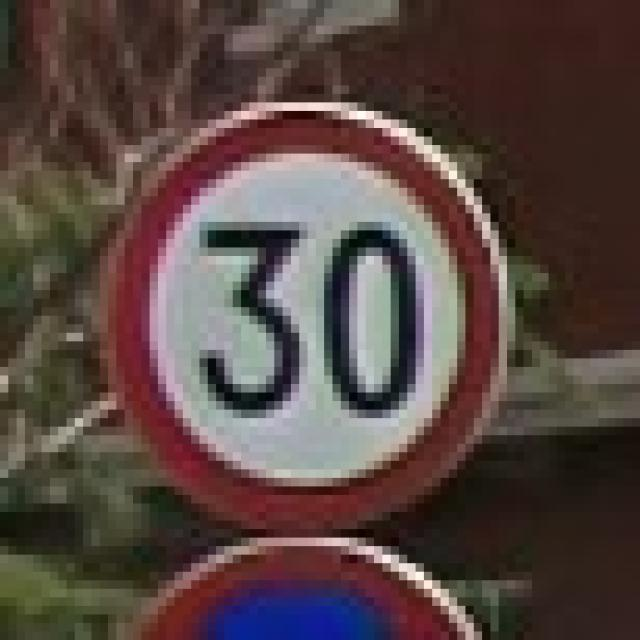Speed Limit -30-: (193, 204, 422, 426)
